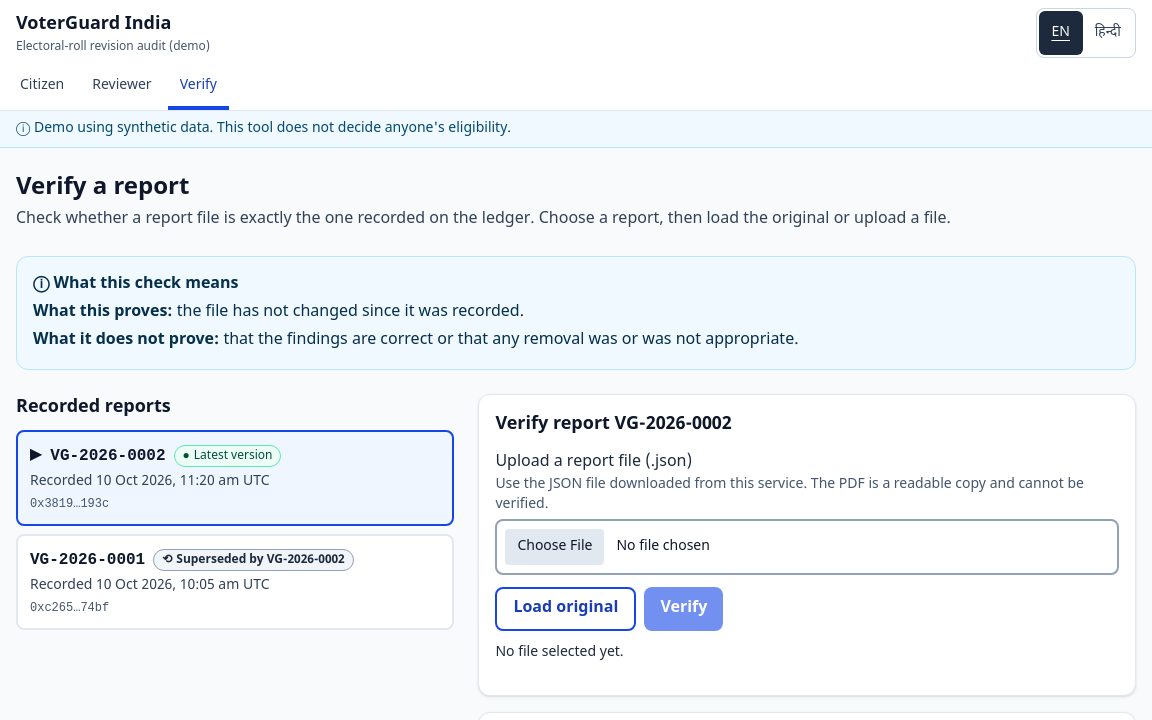
Test: Verify page › simulate tampering changes one character of the file and shows a labelled MISMATCH
This screenshot has width=1152, height=720.
Expected: the button "Simulate tampering" is not shown
Click the button "Load original" at (566, 609), box [495,587,636,631]
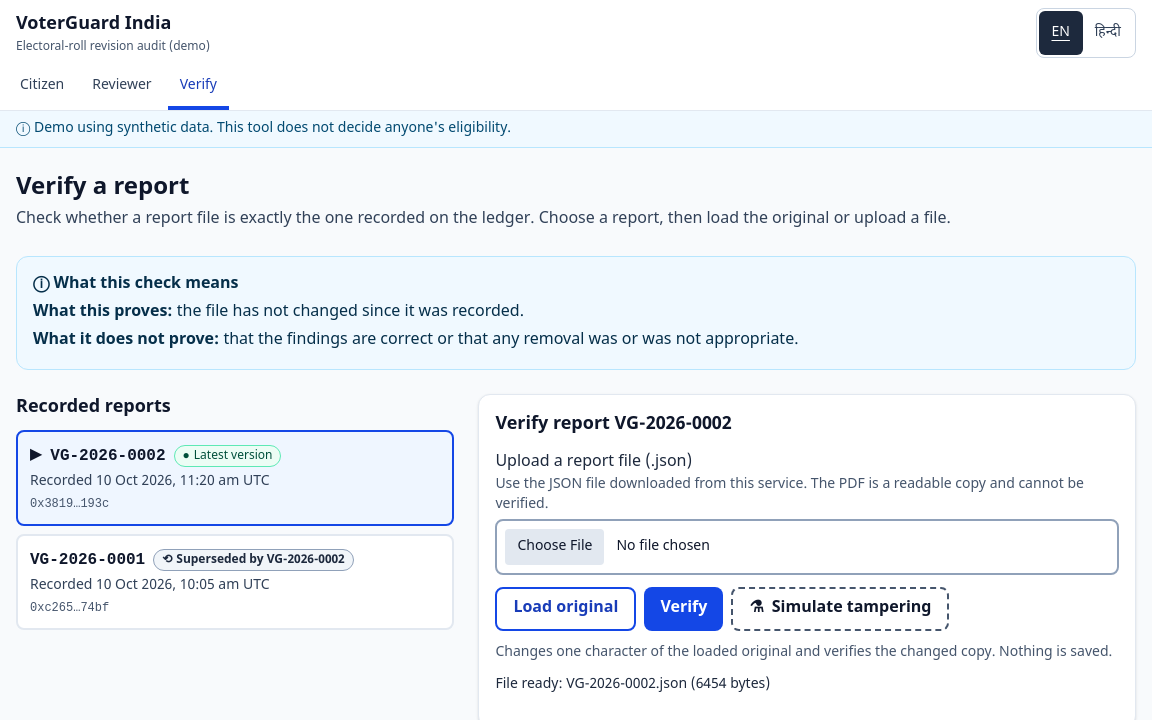
Click the button "⚗ Simulate tampering" at (840, 609), box [731,587,950,631]
(page scrolled)
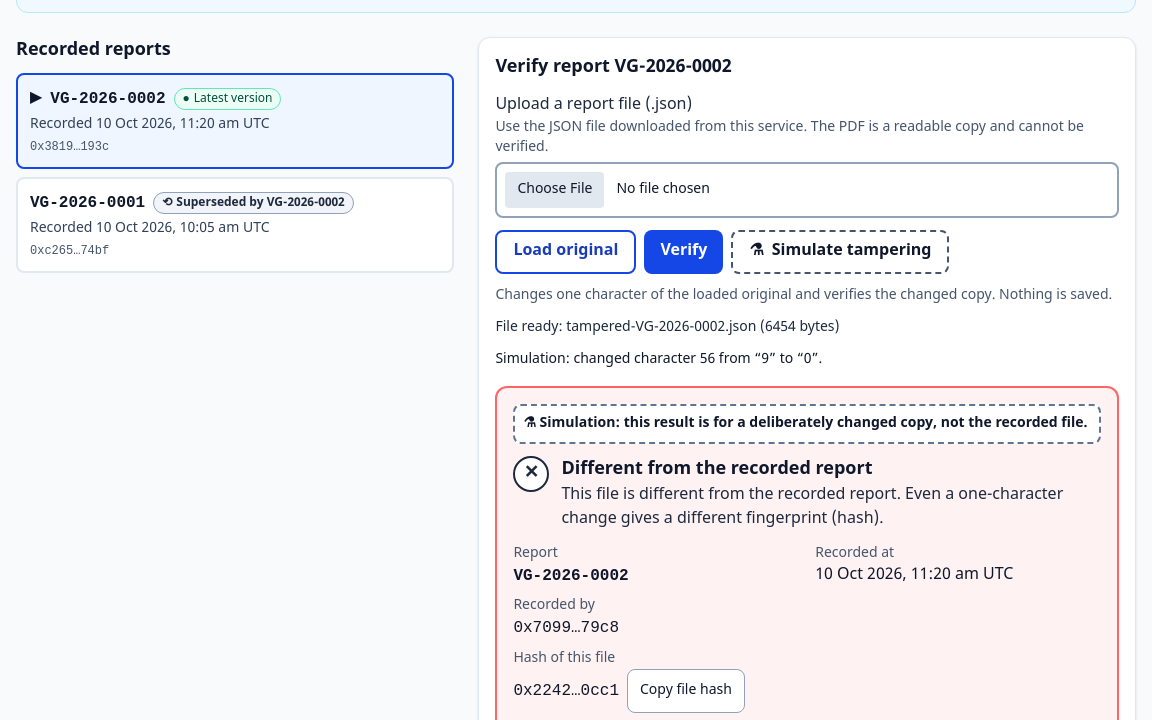
Now the text "Simulation: this result is for a deliberately changed copy" is shown, box [540,414,1088,433]
Now the text with test id "tamper-note" reads "Simulation: changed character 56 from “9” to “0”.", box [495,350,822,369]
